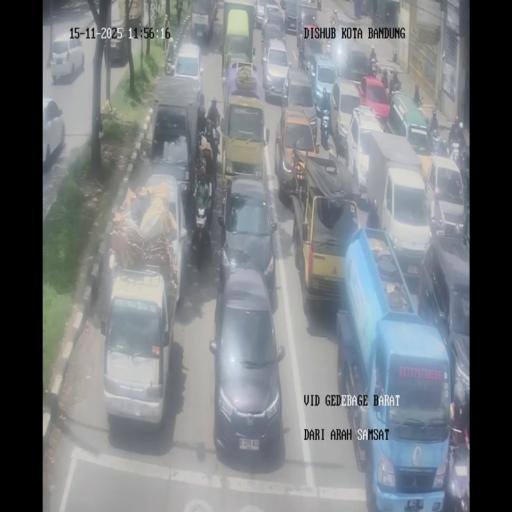car: (102, 266, 176, 430), (217, 176, 278, 303), (218, 92, 267, 188), (274, 104, 318, 202), (423, 154, 466, 236), (388, 92, 432, 153), (329, 76, 362, 152), (260, 37, 291, 102), (306, 53, 338, 115), (171, 41, 204, 96), (51, 33, 85, 82), (42, 97, 65, 168), (358, 75, 391, 122), (225, 58, 257, 94), (342, 50, 372, 84), (297, 4, 320, 48), (106, 21, 129, 65), (279, 0, 300, 33), (253, 0, 273, 27)
motorcycle: (444, 430, 469, 512), (189, 198, 211, 266), (448, 134, 465, 166), (320, 104, 331, 150), (208, 119, 221, 157), (431, 132, 449, 158), (197, 130, 208, 170), (300, 48, 311, 73), (425, 122, 434, 152), (389, 75, 402, 95), (175, 0, 183, 24), (198, 92, 206, 115), (369, 56, 378, 76), (165, 57, 174, 76), (324, 37, 332, 56), (330, 9, 338, 27), (415, 93, 424, 108), (261, 26, 265, 48), (316, 0, 321, 11)
truck: (339, 232, 450, 508), (291, 154, 361, 317), (362, 133, 427, 269), (145, 79, 203, 211), (190, 0, 221, 41)
